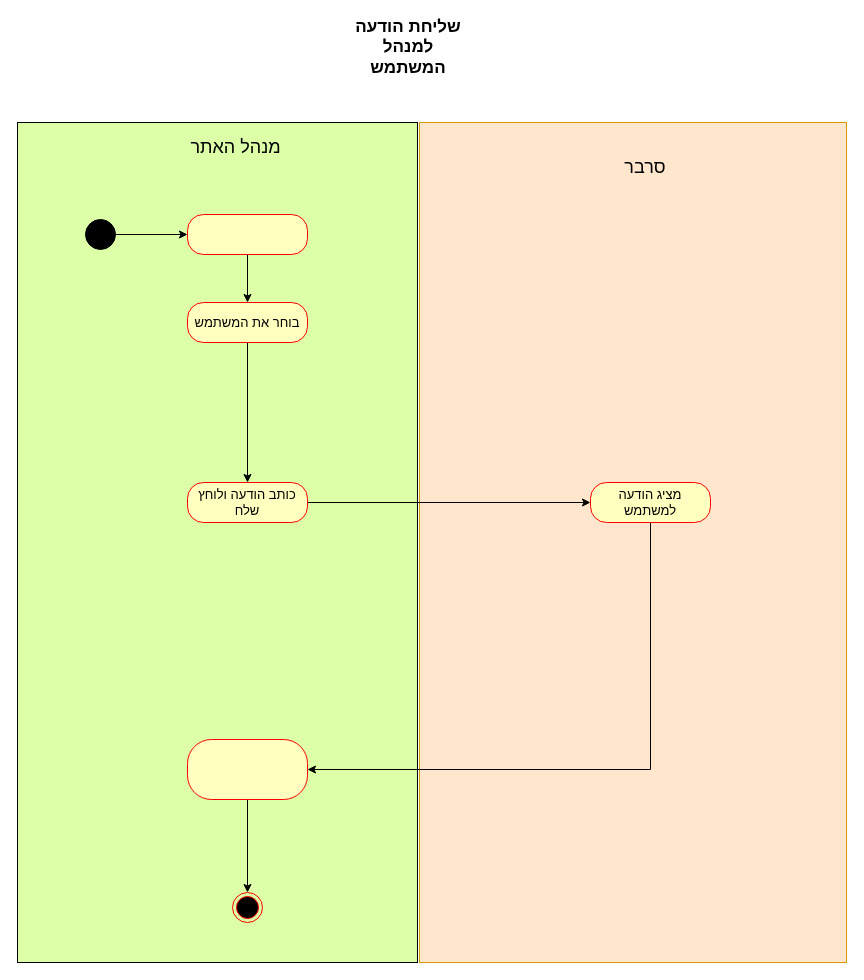
Image size: 864x980. Some labels were removed from this diagram. Here are the shapes that lost their labels. From the top down, the box of each, then its label:
(186, 214, 308, 254): נכנס לשליחת הודעה למשתמש
(186, 738, 308, 800): מציכ הודעה מתאימה למשתמש
